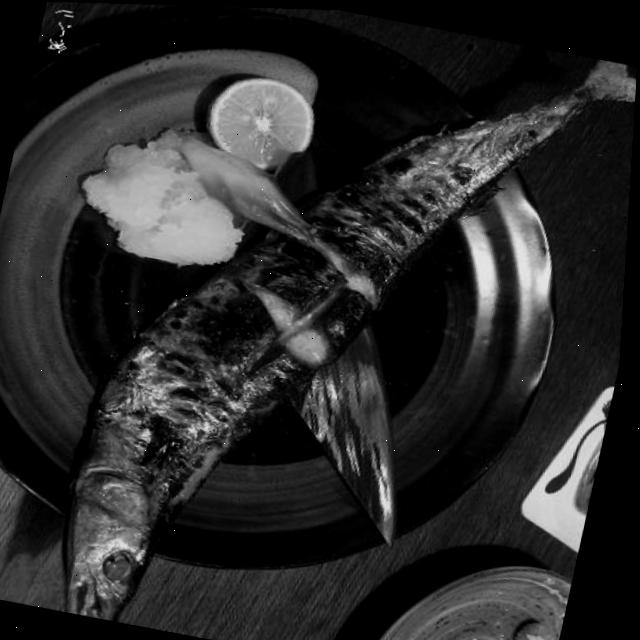熟制海鲜: (61, 2, 640, 640)
